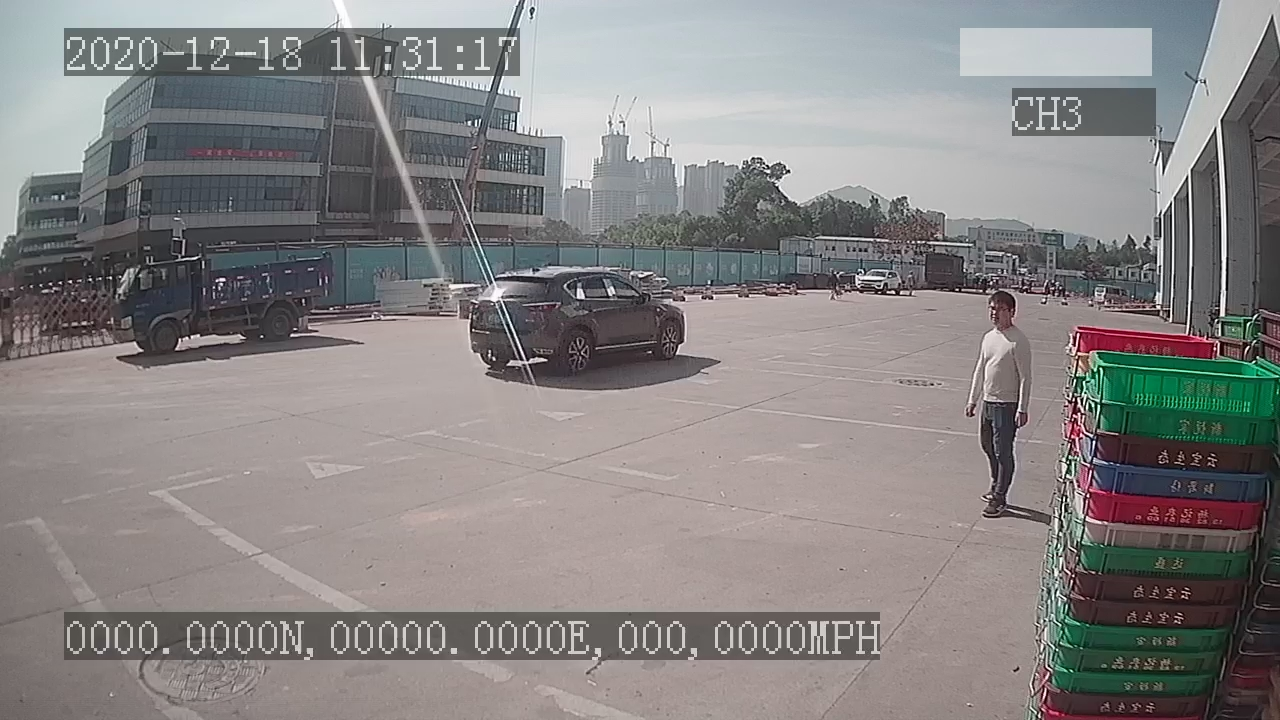person: (961, 287, 1036, 519)
